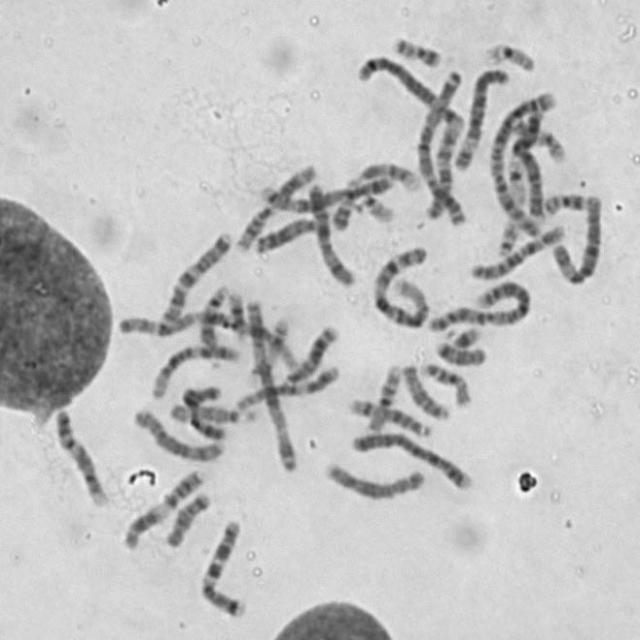A1: (116, 306, 302, 378), (368, 240, 432, 331)
A2: (486, 86, 560, 238), (423, 275, 533, 333)
A3: (241, 294, 300, 474), (412, 64, 469, 228)
B4: (346, 427, 475, 491), (508, 110, 548, 224)
B5: (352, 50, 465, 130), (260, 173, 397, 212)
C10: (467, 219, 569, 282), (423, 110, 467, 220)
C11: (233, 160, 318, 254), (118, 463, 207, 551)
C12: (146, 338, 242, 401), (230, 361, 340, 412)
C6: (452, 62, 514, 173), (547, 188, 604, 286)
C7: (156, 226, 233, 326), (196, 515, 250, 620)
C8: (129, 403, 227, 463), (321, 456, 429, 502)
C9: (50, 403, 109, 509), (346, 156, 421, 193)
D13: (280, 320, 340, 386), (250, 211, 324, 256)
D14: (344, 393, 434, 438), (194, 278, 234, 365)
D15: (399, 359, 454, 421), (164, 398, 260, 425)
E16: (364, 359, 404, 433), (416, 357, 474, 408)
E17: (507, 115, 567, 164), (248, 314, 294, 376)
E18: (160, 487, 213, 549), (432, 336, 489, 367)
F19: (481, 36, 538, 74), (503, 152, 527, 206)
F20: (388, 30, 444, 68), (538, 187, 589, 218)
G21: (224, 287, 248, 339), (444, 320, 484, 350)
G22: (349, 188, 396, 224), (492, 214, 521, 259)
X: (305, 179, 358, 287), (508, 110, 548, 224)
